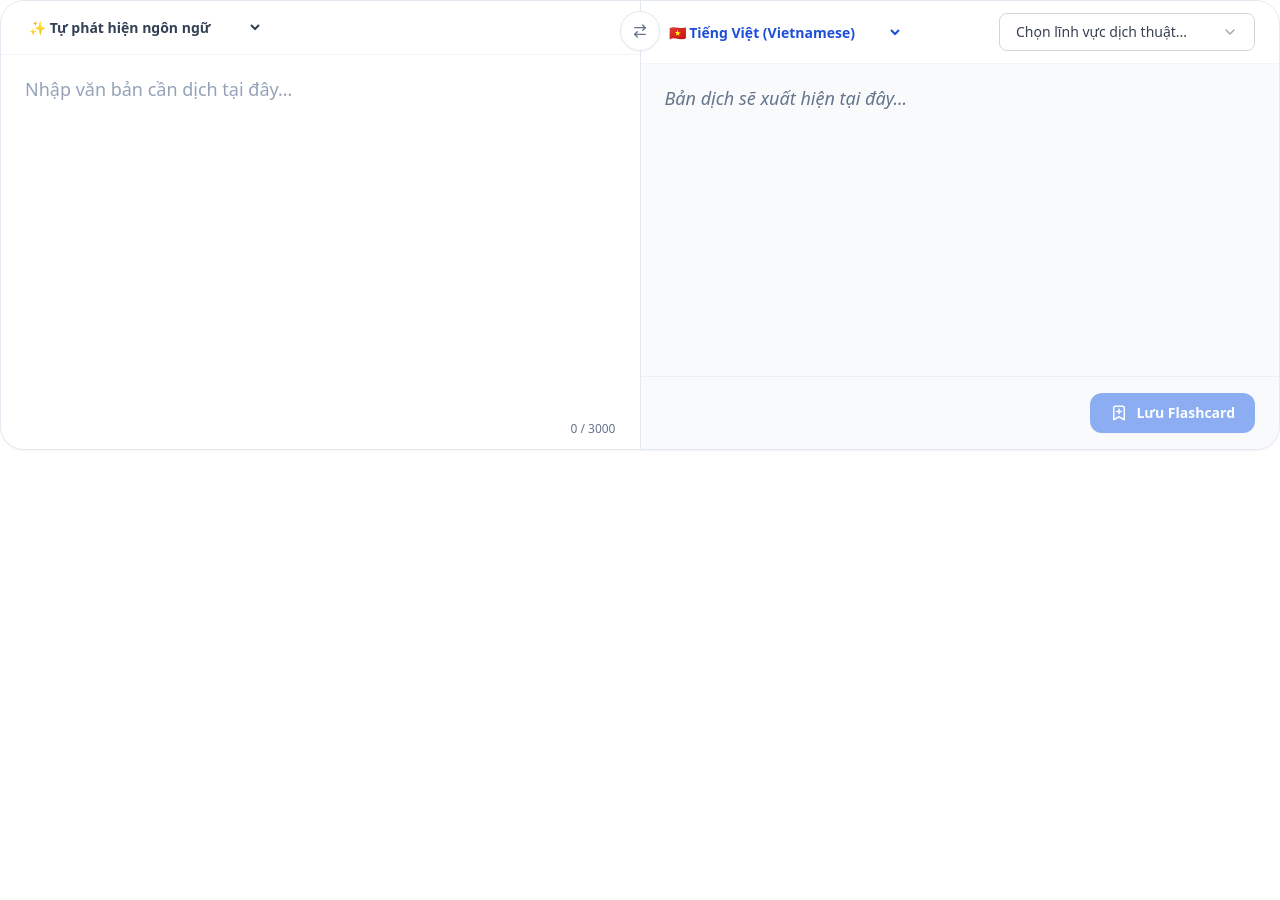
Test: TranslationBox -> Lưu Flashcard: xác định ngôn ngữ thẻ › nhận diện chưa chắc (uncertain): hỏi người dùng
Type "Bonjour" into the text box with placeholder "Nhập văn bản cần dịch tại đây..." at (320, 232), box top-left (1, 55), bottom-right (640, 409)
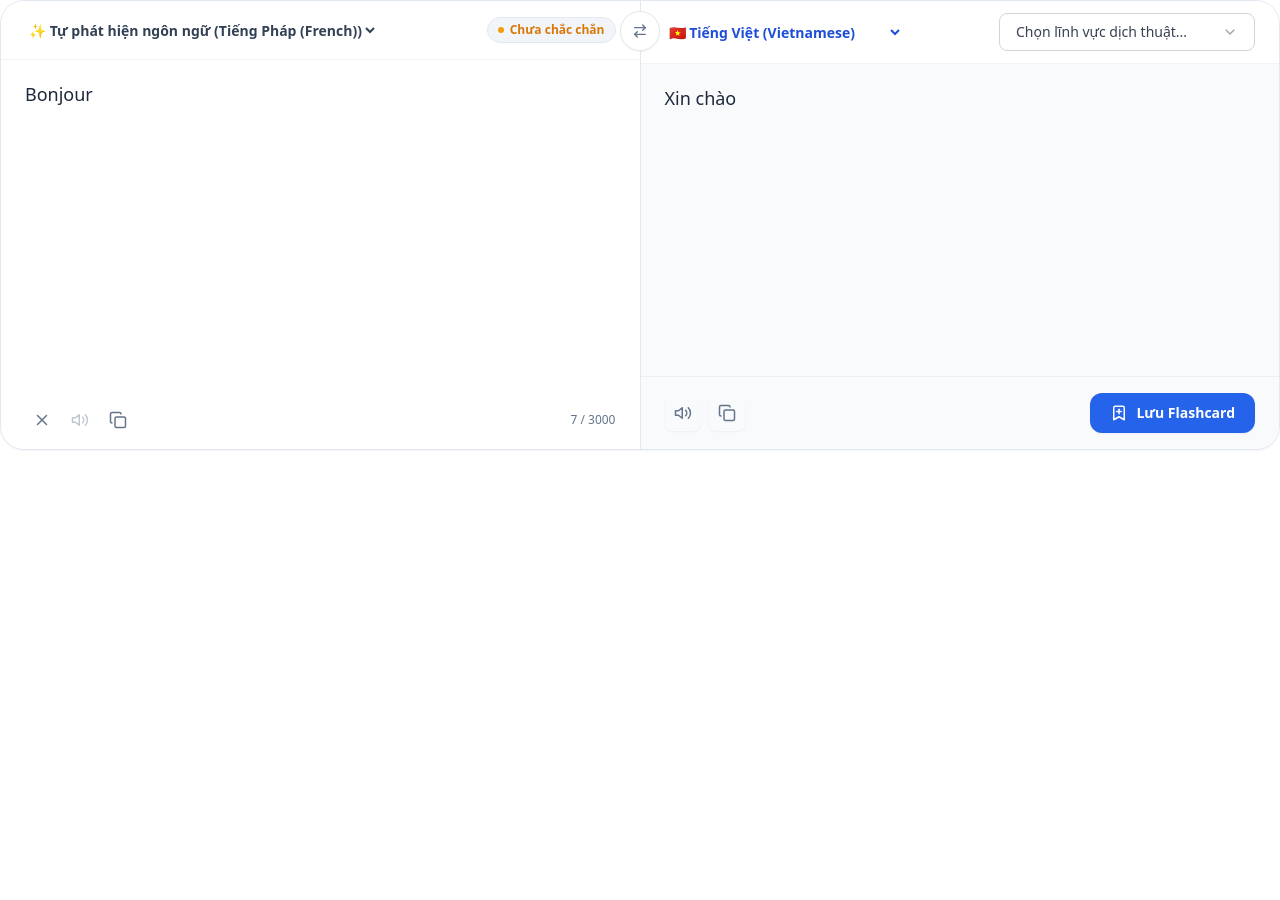
Click the button "Lưu Flashcard" at (1173, 413), box top-left (1090, 393), bottom-right (1255, 433)
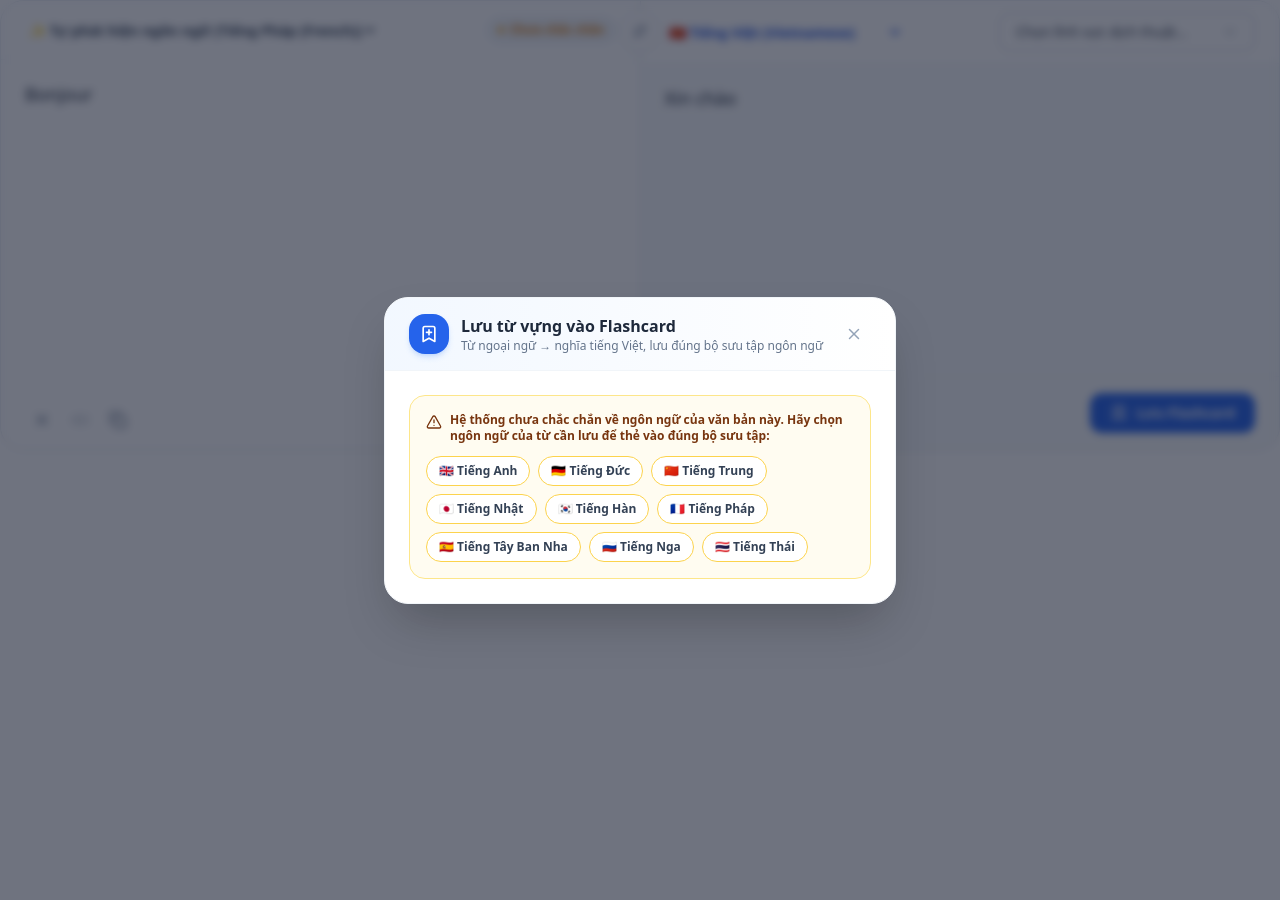
Expected: the text "chưa chắc chắn về ngôn ngữ" is shown, top-left (450, 410), bottom-right (784, 428)
